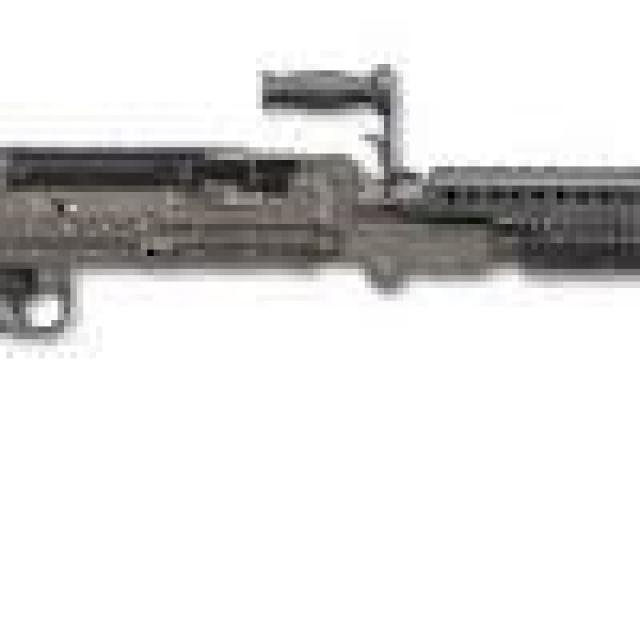Gun: (0, 59, 640, 379)
